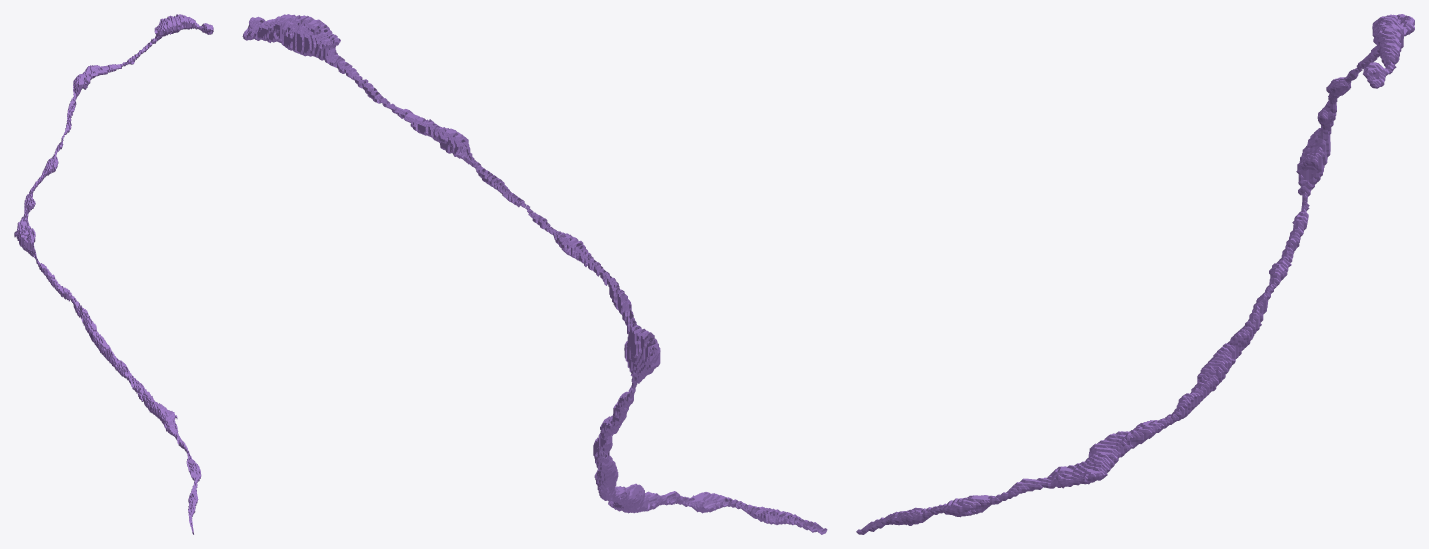
The model's file is SVV_AFDL.gltf.
3 renders of one model, left to right at view 1: azimuth 30°, elevation 25°; view 2: azimuth 150°, elevation 25°; view 3: azimuth 270°, elevation 25°, orthographic. The views are drawn at different scales.
Visible parts, largest first — view 1: AFDL; view 2: AFDL; view 3: AFDL.
Part boxes in pixels (bbox=[...]): AFDL: bbox=[14, 14, 213, 534]; AFDL: bbox=[242, 14, 827, 534]; AFDL: bbox=[856, 14, 1414, 534].
Bounding box in the file's own units: 102986 × 170837 × 138288.
